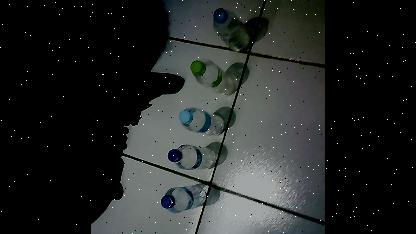Plastic Bottle: (195, 5, 281, 51), (188, 56, 248, 96), (150, 181, 212, 217), (161, 138, 223, 173), (173, 101, 233, 136)
